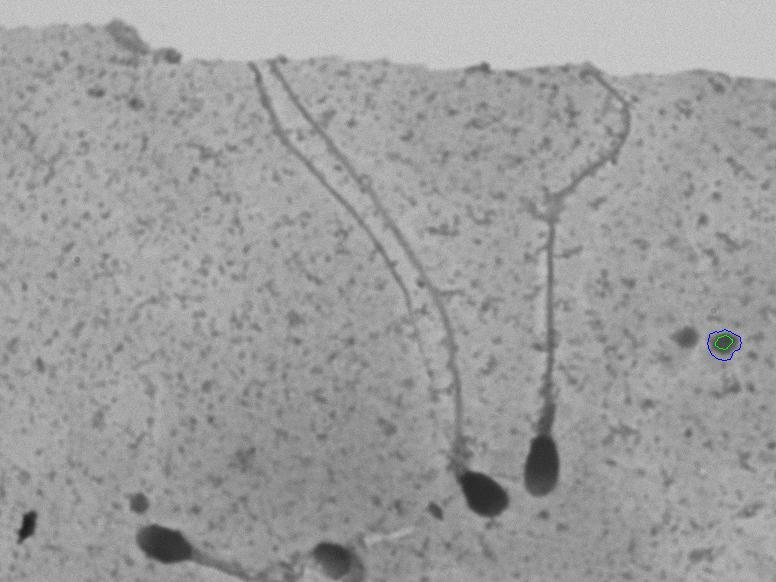Abnormal: (266, 62, 518, 527), (516, 70, 645, 502)
